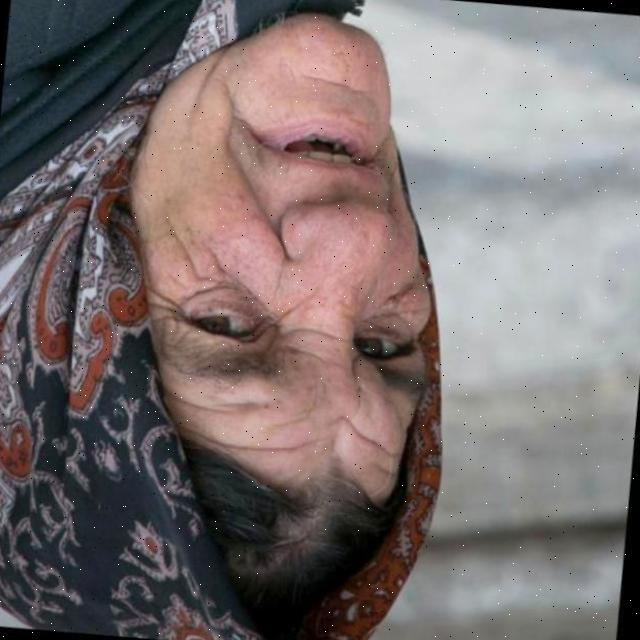puffy_eyes: (190, 283, 256, 312)
